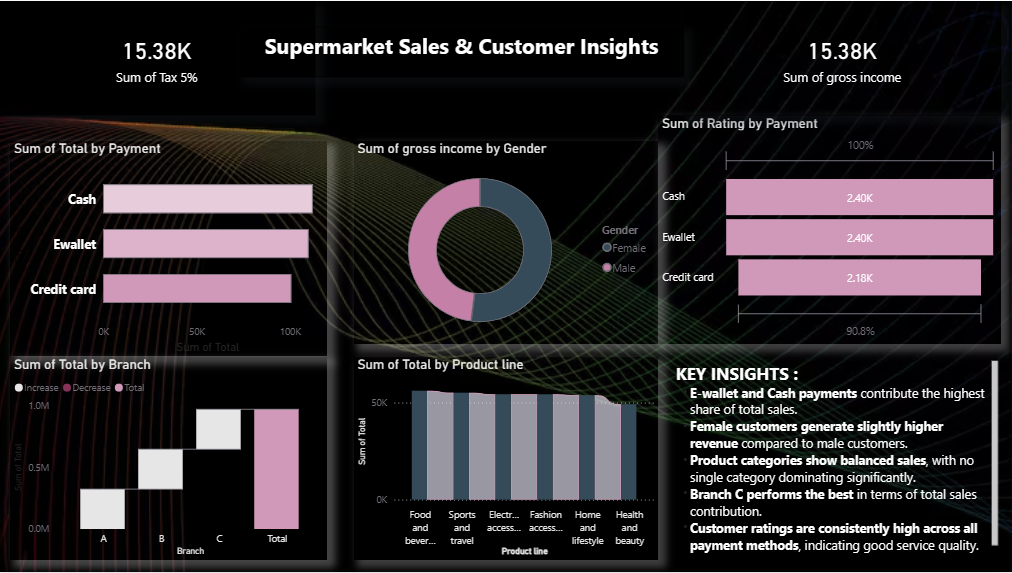

The dashboard page shown, as its layout file describes it:
{"tool":"powerbi","page":{"name":"Page 1","canvas":[1280,720],"ordinal":0},"visuals":[{"type":"barChart","fields":{"Category":["Sheet1.Payment"],"Y":["Sum(Sheet1.Total)"]},"box":[16,176,400,272],"z":0},{"type":"donutChart","fields":{"Y":["Sum(Sheet2.gross income)"],"Category":["Sheet2.Gender"]},"box":[448,176,384,256],"z":1000},{"type":"waterfallChart","fields":{"Category":["Sheet2.Branch"],"Y":["Sum(Sheet1.Total)"]},"box":[16,448,400,256],"z":2000},{"type":"ribbonChart","fields":{"Y":["Sum(Sheet2.Total)"],"Category":["Sheet2.Product line"]},"box":[448,448,384,256],"z":3000},{"type":"funnel","fields":{"Y":["Sum(Sheet2.Rating)"],"Category":["Sheet2.Payment"]},"box":[832,144,432,288],"z":5000},{"type":"card","fields":{"Values":["Sum(Sheet2.Tax 5%)"]},"box":[0,0,400,144],"z":7000},{"type":"card","fields":{"Values":["Sum(Sheet1.gross income)"]},"box":[864,0,400,144],"z":8000},{"type":"textbox","box":[848,448,416,256],"z":8001},{"type":"textbox","box":[304,32,560,64],"z":8002}]}

Visuals, with their boxes in screenshot pixels (x1, y1, x2, y2), scaled from the page's 1280x720 canvas onto the 1012x573 screenshot:
barChart - Sheet1.Payment x Sum(Sheet1.Total): {"left": 13, "top": 140, "right": 329, "bottom": 357}
donutChart - Sum(Sheet2.gross income) x Sheet2.Gender: {"left": 354, "top": 140, "right": 658, "bottom": 344}
waterfallChart - Sheet2.Branch x Sum(Sheet1.Total): {"left": 13, "top": 357, "right": 329, "bottom": 560}
ribbonChart - Sum(Sheet2.Total) x Sheet2.Product line: {"left": 354, "top": 357, "right": 658, "bottom": 560}
funnel - Sum(Sheet2.Rating) x Sheet2.Payment: {"left": 658, "top": 115, "right": 999, "bottom": 344}
card - Sum(Sheet2.Tax 5%): {"left": 0, "top": 0, "right": 316, "bottom": 115}
card - Sum(Sheet1.gross income): {"left": 683, "top": 0, "right": 999, "bottom": 115}
textbox: {"left": 670, "top": 357, "right": 999, "bottom": 560}
textbox: {"left": 240, "top": 25, "right": 683, "bottom": 76}
